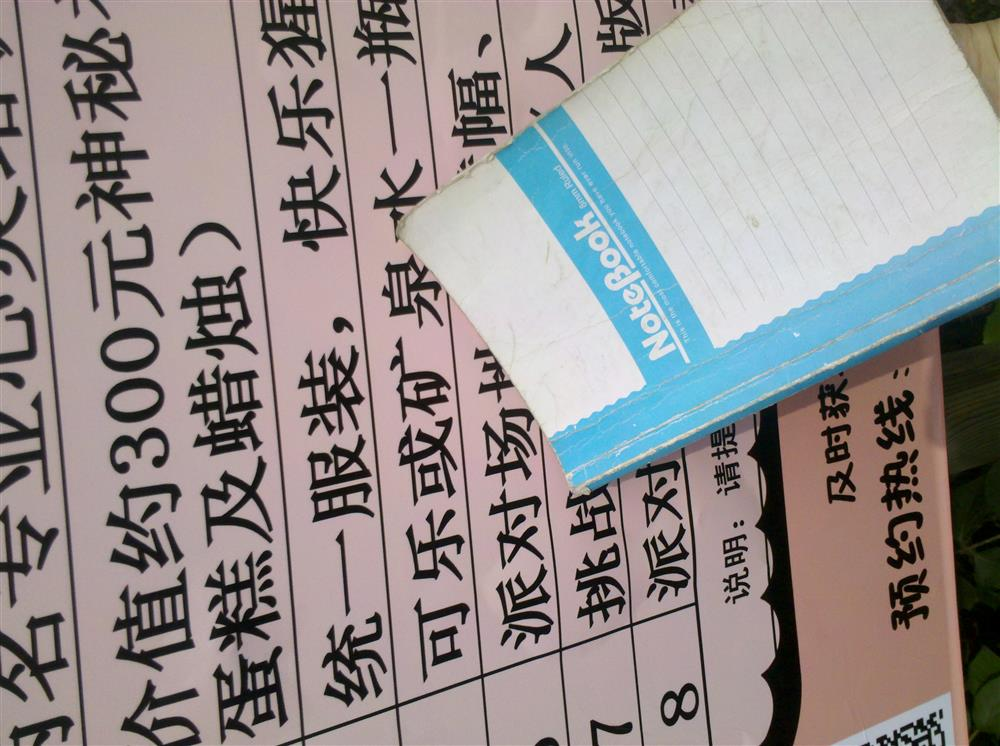Blue_notebook: (400, 3, 998, 493)
